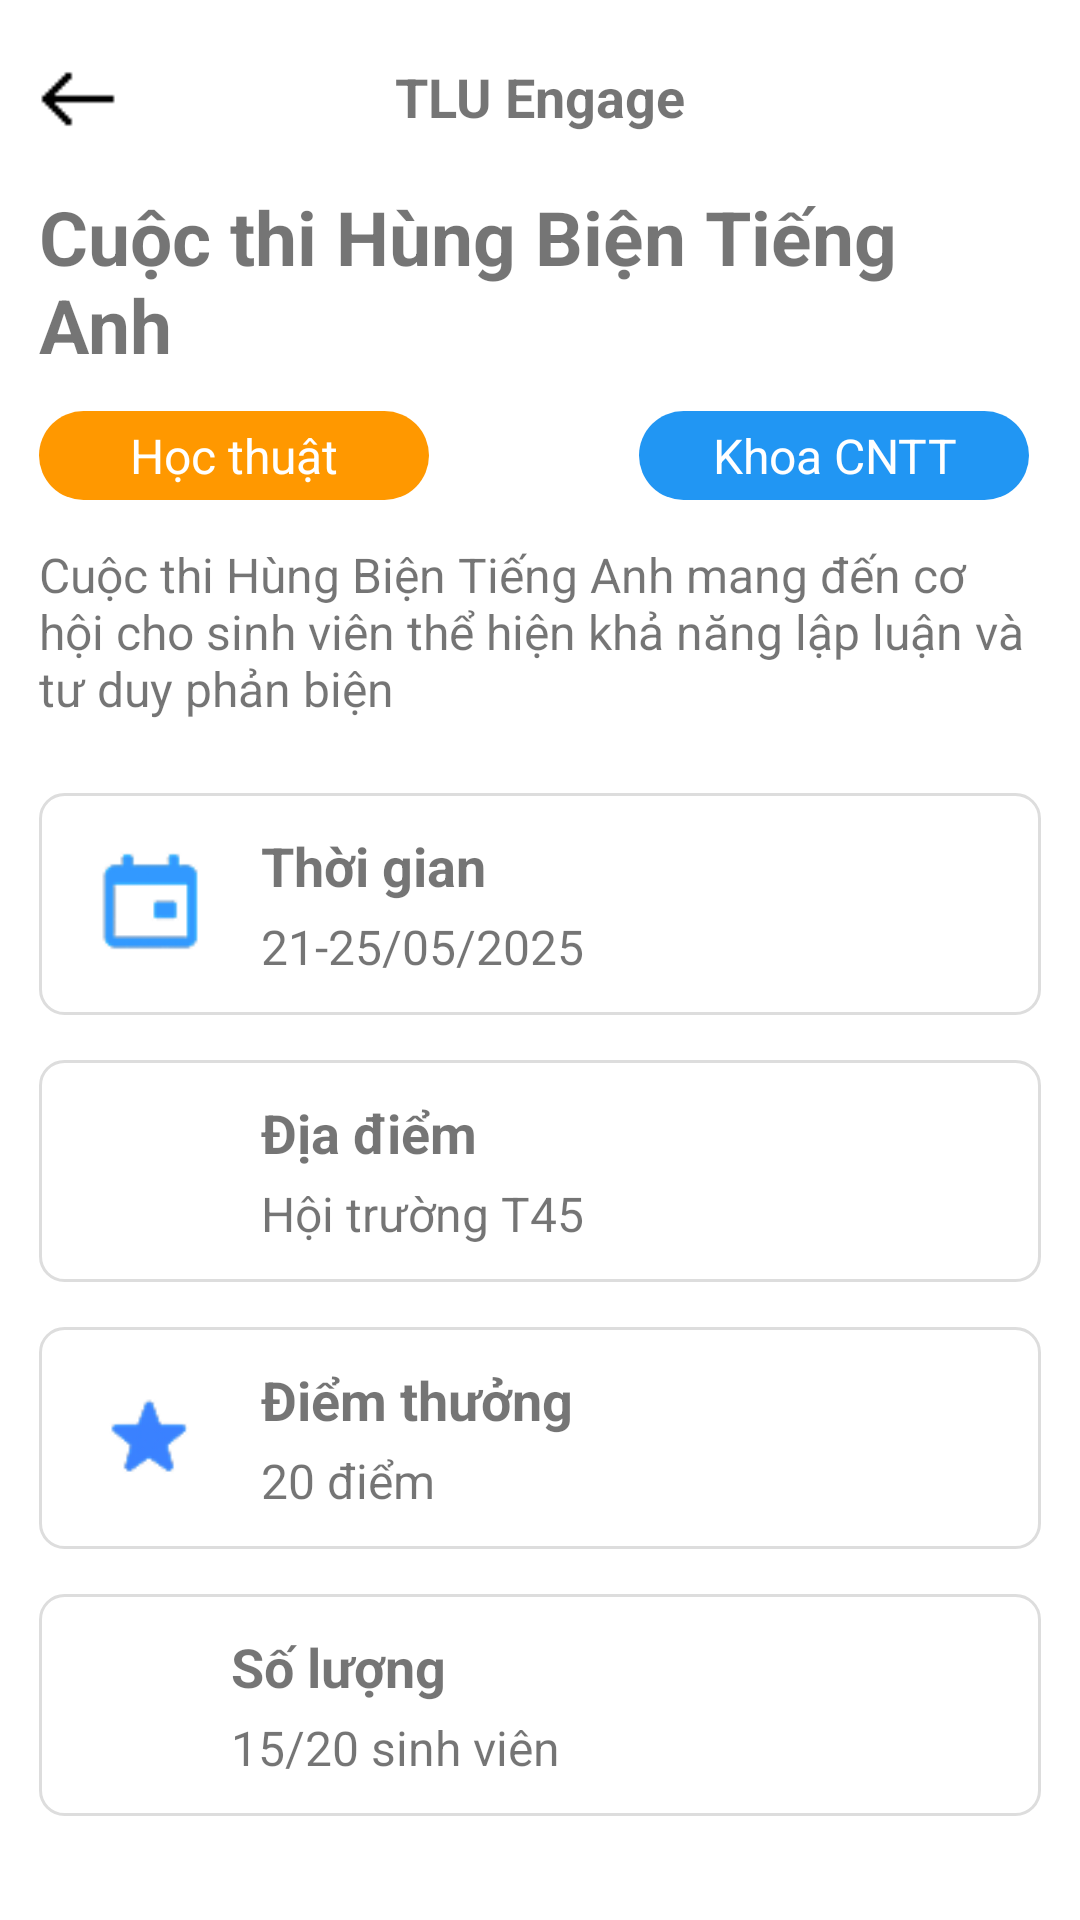

Named icons in this screenshot (1080*1920) and their bounding boxes, (x1, y1, x2, y2):
back: (41, 72, 115, 126)
calendar: (102, 853, 198, 949)
star: (111, 1400, 187, 1472)
